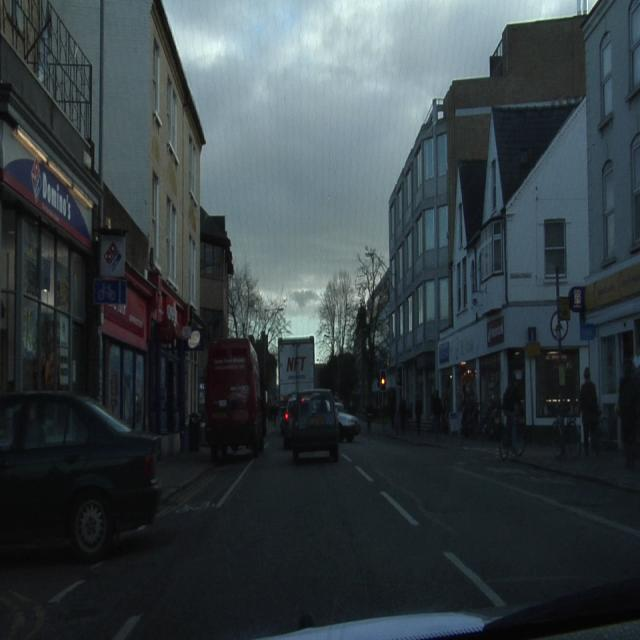Building: (386, 8, 639, 443), (1, 1, 230, 446)
Car: (1, 391, 159, 555), (282, 390, 338, 460), (337, 404, 358, 440)
Road: (0, 428, 639, 635)
Tree: (318, 247, 389, 406), (230, 256, 286, 350)
Truck_Bus: (205, 338, 266, 456)
person: (619, 357, 639, 468), (580, 369, 599, 454)
